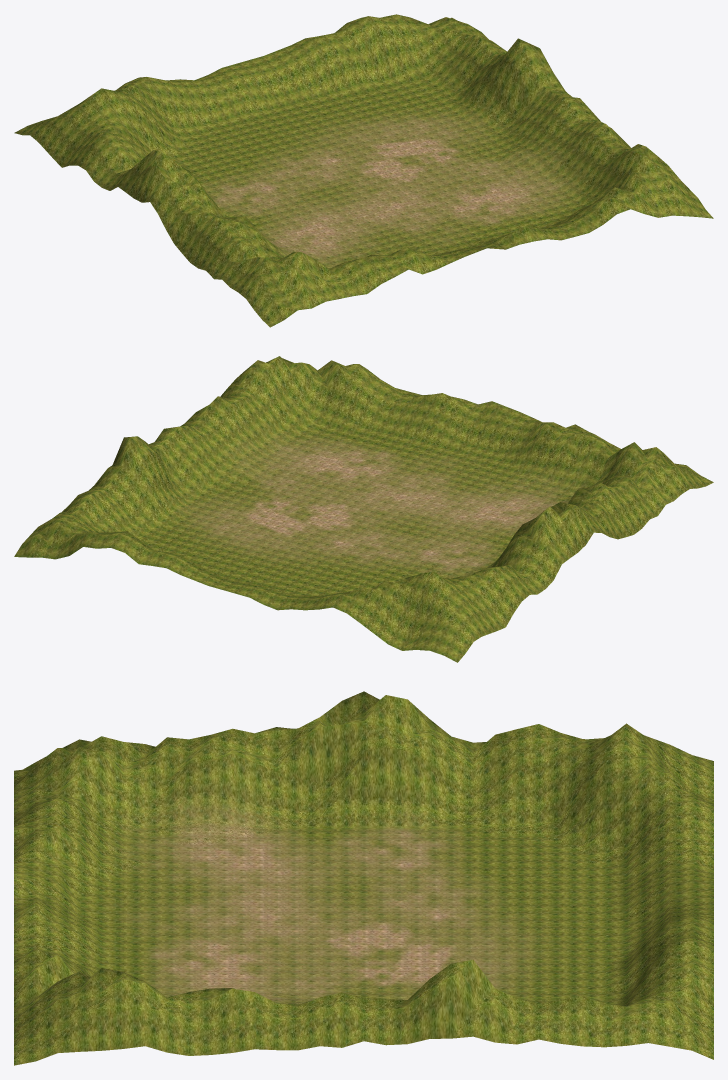
The picture shows the model from 3 angles, top to bottom: view 1: azimuth 30°, elevation 25°; view 2: azimuth 150°, elevation 25°; view 3: azimuth 270°, elevation 25°; orthographic projection. The views are drawn at different scales.
Visible parts, largest first — view 1: Mesh; view 2: Mesh; view 3: Mesh.
Part boxes in pixels (x1,y1,x2,y2): Mesh: (14, 14, 713, 327); Mesh: (14, 356, 713, 662); Mesh: (14, 691, 713, 1065).
Bounding box in the file's own units: 150 × 22.38 × 150.
1 material, 1 textured.
